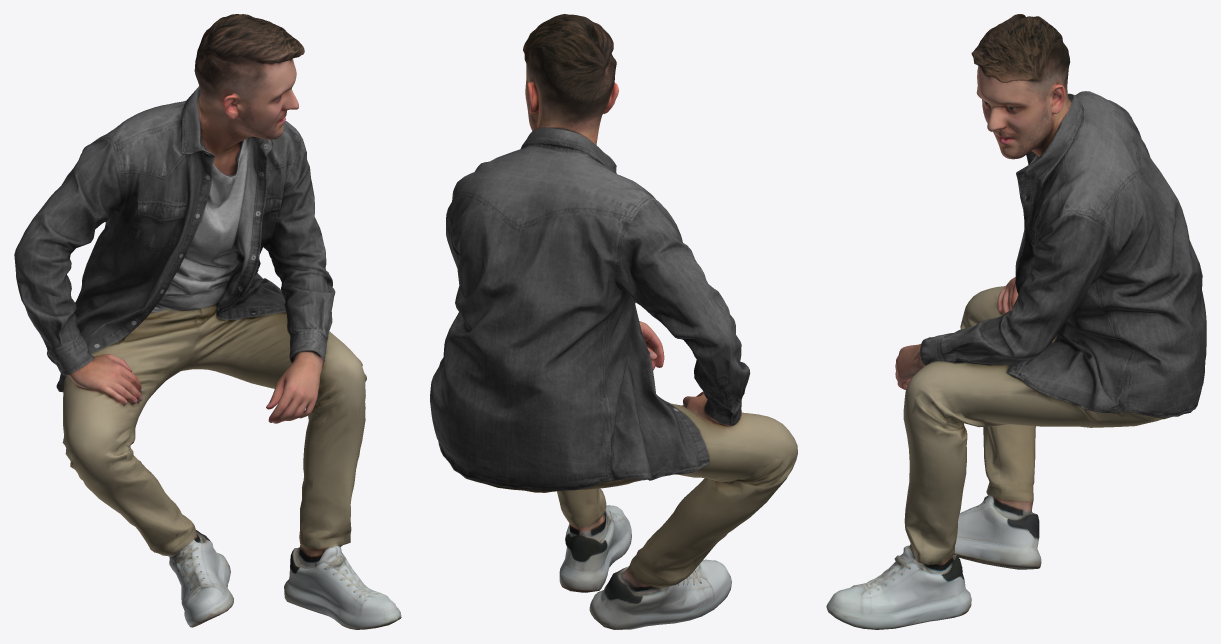
3 renders of one model, left to right at view 1: azimuth 30°, elevation 25°; view 2: azimuth 150°, elevation 25°; view 3: azimuth 270°, elevation 25°, orthographic. The views are drawn at different scales.
Parts seen in each view (by area): view 1: Humano_Posed_0341842-Man_01_LOD1_0; view 2: Humano_Posed_0341842-Man_01_LOD1_0; view 3: Humano_Posed_0341842-Man_01_LOD1_0.
Boxes of the visible parts, box(x1,y1,x2,y2) form: Humano_Posed_0341842-Man_01_LOD1_0: box(14, 14, 401, 629); Humano_Posed_0341842-Man_01_LOD1_0: box(430, 14, 797, 629); Humano_Posed_0341842-Man_01_LOD1_0: box(826, 14, 1206, 629).
Bounding box in the file's own units: 0.6946 × 1.34 × 0.8014.
Materials: 1 (1 with a texture image).
